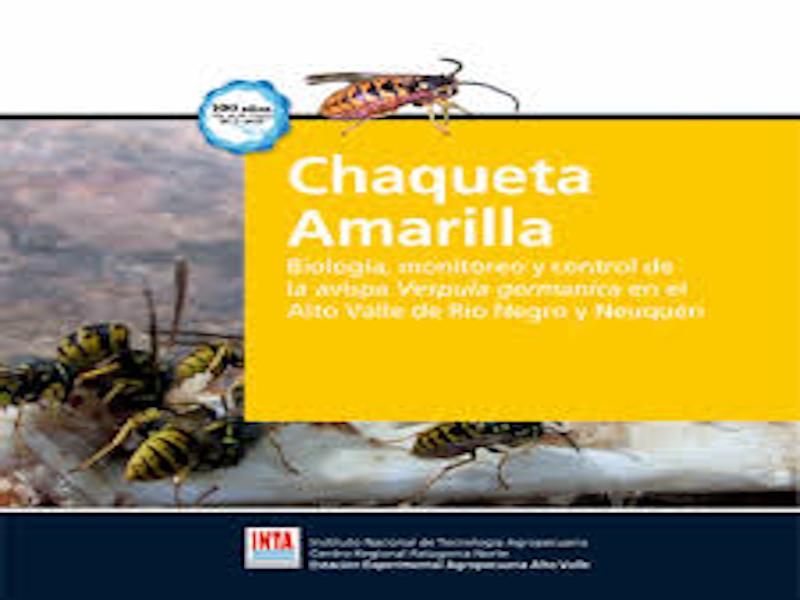chax: (289, 47, 567, 128), (77, 388, 261, 492), (393, 422, 585, 489), (43, 302, 164, 400)
